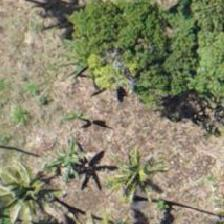coconut_tree: (93, 134, 183, 223), (0, 147, 70, 223)
